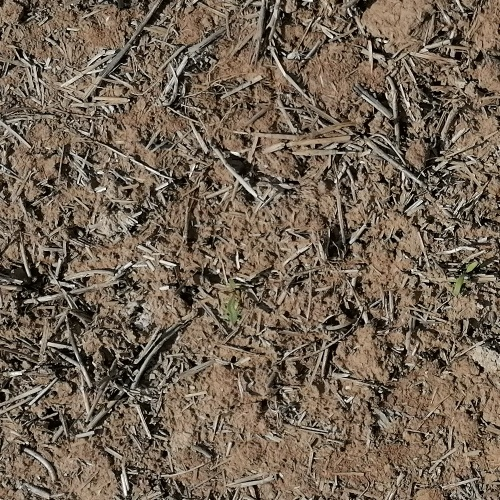beet: (452, 260, 480, 294), (225, 272, 238, 329)
